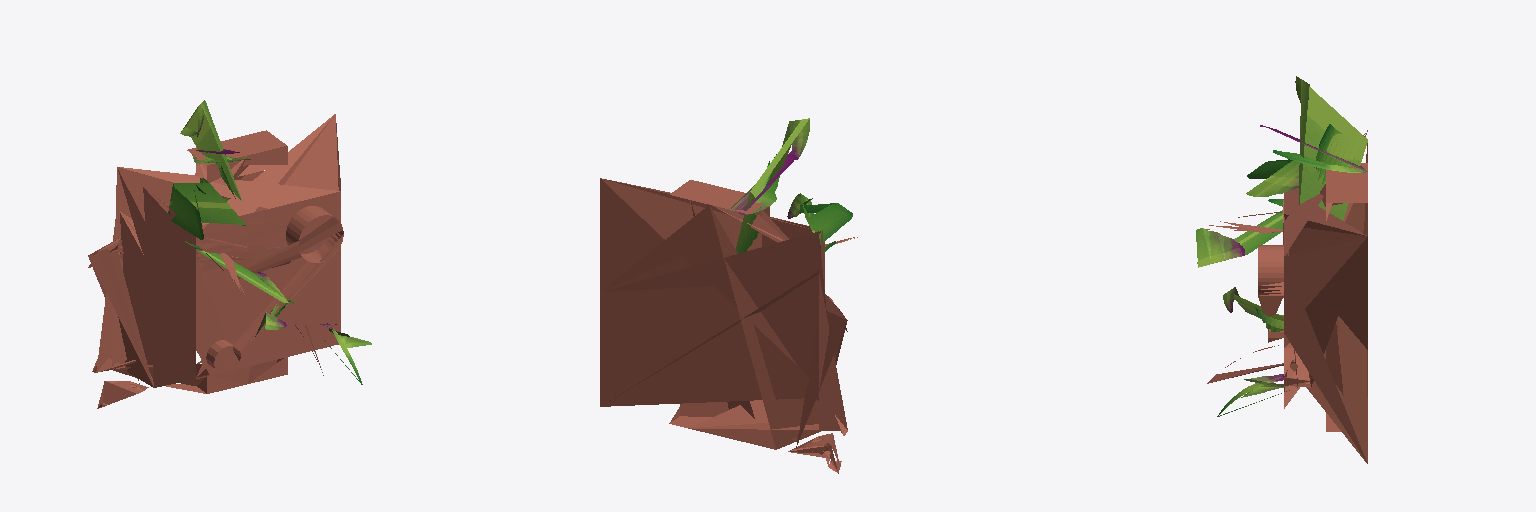
3 views of the same model, side by side, from view 1: azimuth 30°, elevation 25°; view 2: azimuth 150°, elevation 25°; view 3: azimuth 270°, elevation 25° (orthographic).
Visible parts, largest first — view 1: object_13, object_3, object_8, object_5, object_11, object_6, object_7, object_4, object_1, object_15; view 2: object_13, object_2, object_11, object_5, object_8, object_6, object_10; view 3: object_13, object_11, object_7, object_8, object_5, object_6, object_12, object_10, object_15.
Part boxes in pixels (left/top/right/bottom): object_13: left=92, top=114, right=343, bottom=387; object_3: left=88, top=237, right=283, bottom=393; object_8: left=168, top=178, right=246, bottom=239; object_5: left=194, top=131, right=287, bottom=383; object_11: left=180, top=100, right=241, bottom=201; object_6: left=187, top=130, right=285, bottom=294; object_7: left=185, top=241, right=288, bottom=302; object_4: left=207, top=357, right=287, bottom=393; object_1: left=97, top=381, right=142, bottom=408; object_15: left=320, top=323, right=371, bottom=384; object_13: left=600, top=178, right=847, bottom=449; object_2: left=788, top=294, right=847, bottom=458; object_11: left=736, top=118, right=809, bottom=253; object_5: left=671, top=180, right=769, bottom=425; object_8: left=787, top=193, right=852, bottom=244; object_6: left=670, top=181, right=857, bottom=246; object_10: left=729, top=150, right=794, bottom=214; object_13: left=1258, top=130, right=1367, bottom=463; object_11: left=1295, top=76, right=1367, bottom=220; object_7: left=1196, top=199, right=1283, bottom=267; object_8: left=1246, top=159, right=1299, bottom=196; object_5: left=1326, top=164, right=1366, bottom=431; object_6: left=1206, top=163, right=1367, bottom=232; object_12: left=1223, top=287, right=1283, bottom=331; object_10: left=1260, top=125, right=1367, bottom=172; object_15: left=1217, top=374, right=1297, bottom=416.
Bounding box in the file's own units: 1.7 × 2.06 × 1.05.
Materials: 2 (1 with a texture image).